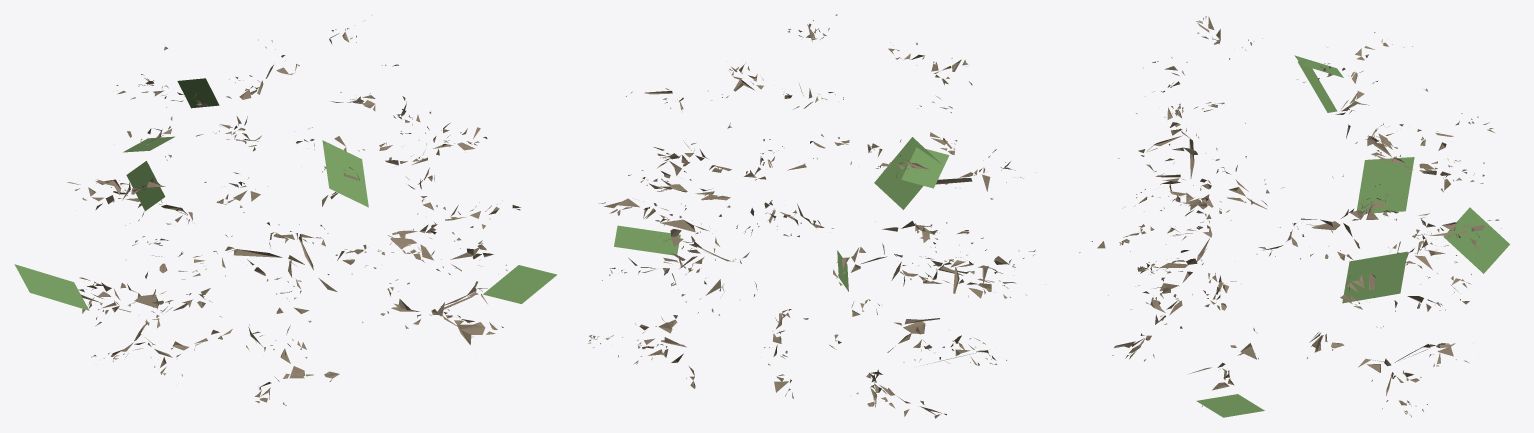
File: branch_redwood_b.glb
3 views of the same model, side by side, from view 1: azimuth 30°, elevation 25°; view 2: azimuth 150°, elevation 25°; view 3: azimuth 270°, elevation 25° (orthographic).
Visible parts, largest first — view 1: wood, leaves; view 2: wood, leaves; view 3: wood, leaves.
Part boxes in pixels (x1=…): wood: x1=67, y1=15, x2=520, y2=405; leaves: x1=14, y1=78, x2=556, y2=310; wood: x1=588, y1=14, x2=1035, y2=418; leaves: x1=614, y1=137, x2=983, y2=365; wood: x1=1079, y1=16, x2=1501, y2=417; leaves: x1=1196, y1=55, x2=1509, y2=417.
Bounding box in the file's own units: 3.95 × 2.41 × 3.37.
